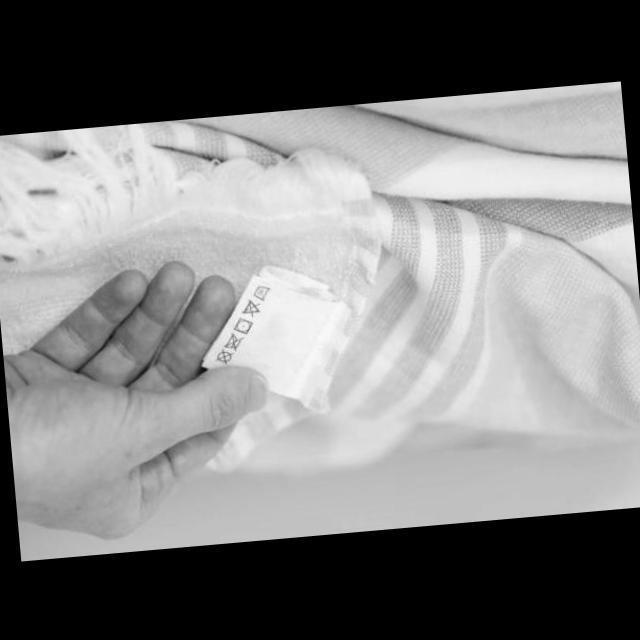30C: (250, 281, 271, 301)
DN_bleach: (238, 294, 261, 318)
DN_dry_clean: (212, 346, 234, 365)
DN_iron: (220, 329, 245, 352)
tumble_dry_low: (229, 314, 253, 336)
